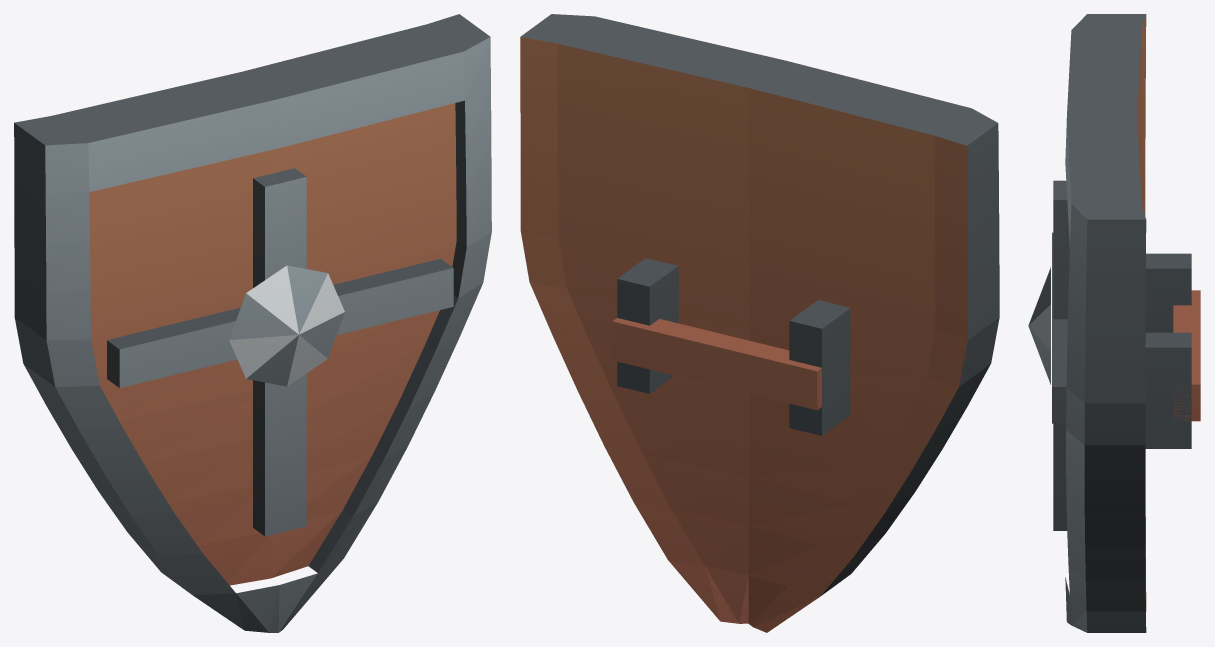
Rendered from shield_heater_iron.glb.
3 renders of one model, left to right at view 1: azimuth 30°, elevation 25°; view 2: azimuth 150°, elevation 25°; view 3: azimuth 270°, elevation 25°, orthographic. The views are drawn at different scales.
Visible parts, largest first — view 1: model; view 2: model; view 3: model.
Part boxes in pixels (box(x1,y1,x2,y2)): model: box(14, 14, 491, 632); model: box(520, 14, 999, 632); model: box(1028, 14, 1200, 632).
Bounding box in the file's own units: 0.96 × 1.1 × 0.34.
Materials: 1 (1 with a texture image).
